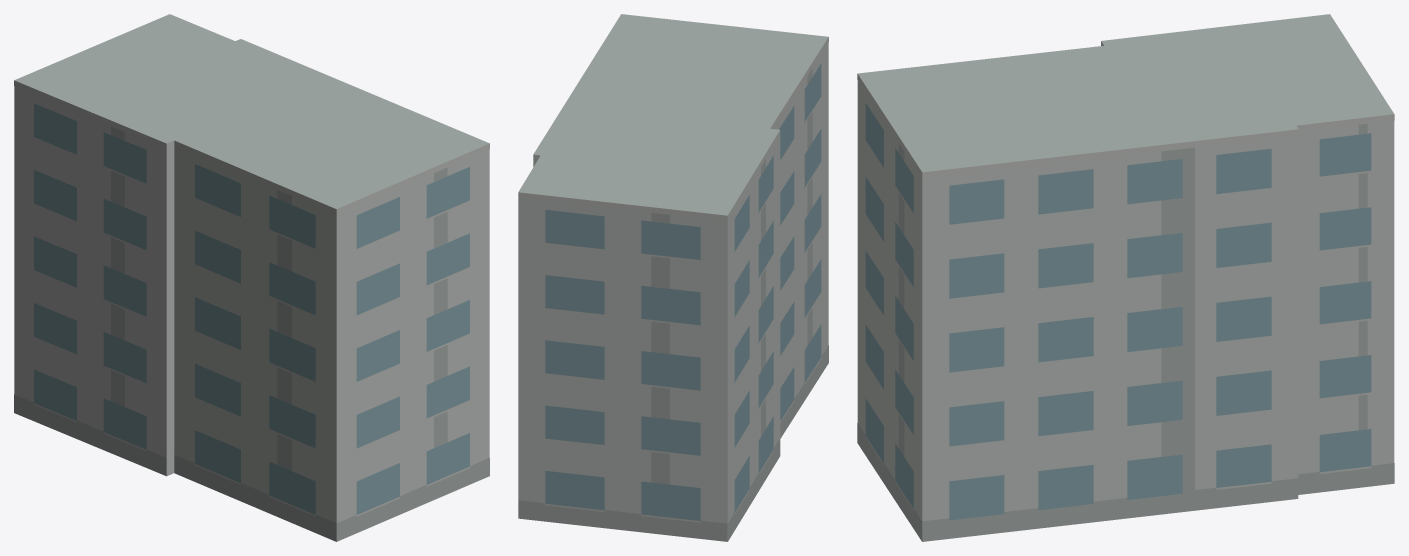
Rendered from survey-upis-32620420.glb.
The picture shows the model from 3 angles, left to right: view 1: azimuth 30°, elevation 25°; view 2: azimuth 150°, elevation 25°; view 3: azimuth 270°, elevation 25°; orthographic projection. The views are drawn at different scales.
Visible parts, largest first — view 1: survey-upis-32620420.tmp; view 2: survey-upis-32620420.tmp; view 3: survey-upis-32620420.tmp.
Part boxes in pixels (<box>): survey-upis-32620420.tmp: <box>14,14,489,541</box>; survey-upis-32620420.tmp: <box>518,14,828,541</box>; survey-upis-32620420.tmp: <box>857,14,1394,541</box>.
Bounding box in the file's own units: 12.78 × 13.9 × 18.32.
